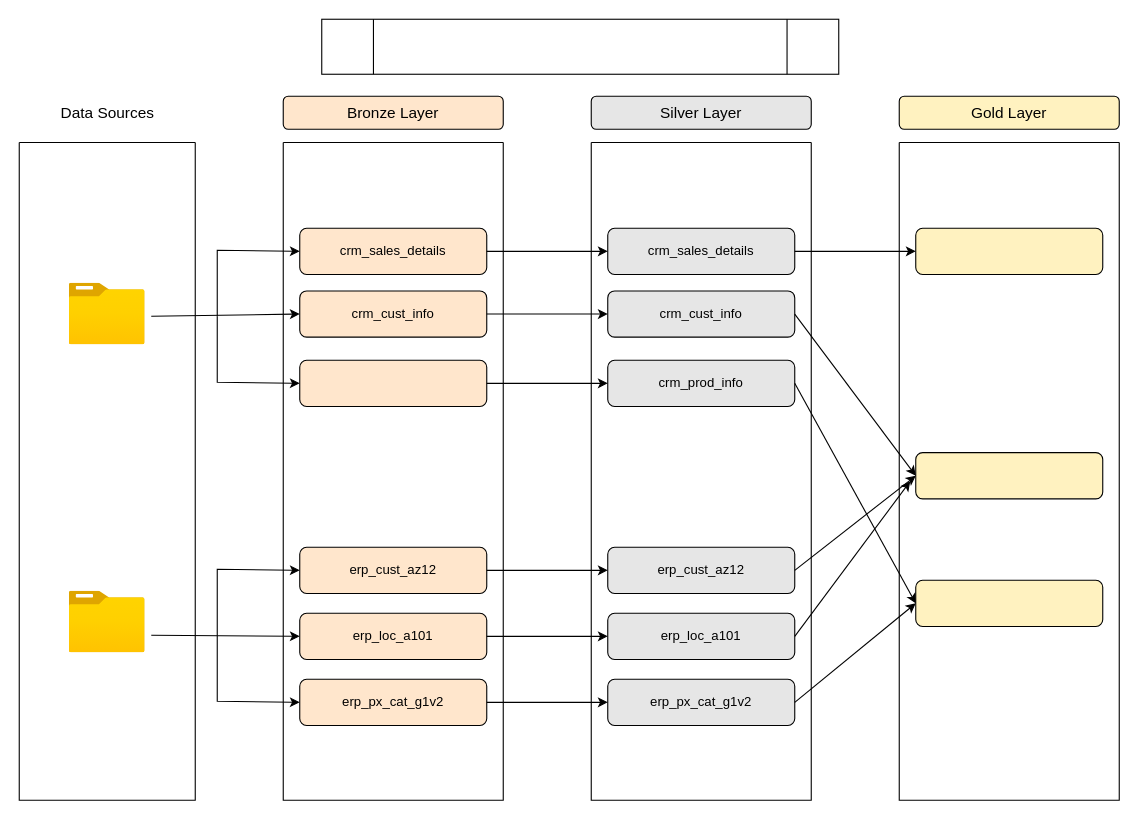
Image size: 1139x820. Some labels were removed from this diagram. Each missing label, with the centre of its shape:
"CRM" belongs at point 107,313.
"crm_prd_info" belongs at point 393,382.
"Data Flow" belongs at point 580,46.
"dim_customers" belongs at point 1009,475.
"dim_products" belongs at point 1009,602.
"ERP" belongs at point 107,621.
"fact_sales" belongs at point 1009,250.
